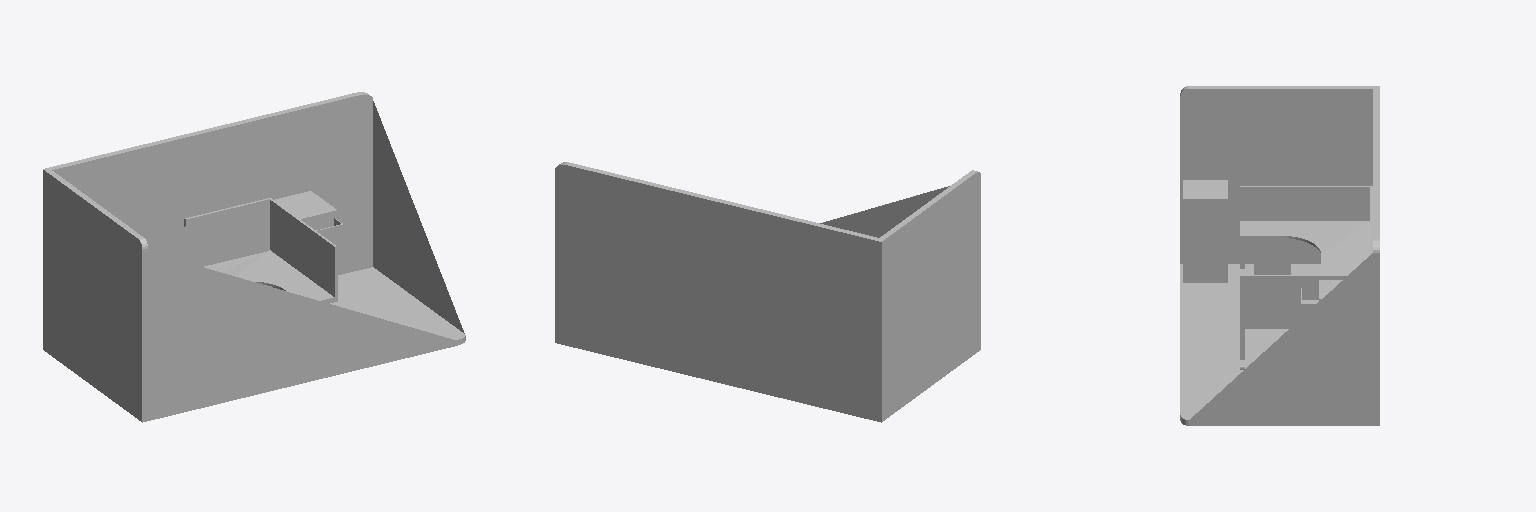
File: TheStanleyParablev2.obj
3 views of the same model, side by side, from view 1: azimuth 30°, elevation 25°; view 2: azimuth 150°, elevation 25°; view 3: azimuth 270°, elevation 25° (orthographic).
Parts seen in each view (by area): view 1: Room, Table, Files2; view 2: Room; view 3: Room, Table, Files1, SmallFiles1.
Boxes of the visible parts, <box> form: Room: <box>43,92,465,422</box>; Table: <box>146,198,336,301</box>; Files2: <box>273,191,337,303</box>; Room: <box>555,162,980,422</box>; Room: <box>1180,86,1379,425</box>; Table: <box>1240,186,1372,328</box>; Files1: <box>1183,180,1227,282</box>; SmallFiles1: <box>1254,238,1290,274</box>.
Bounding box in the file's own units: 14.2 × 7.5 × 7.5.